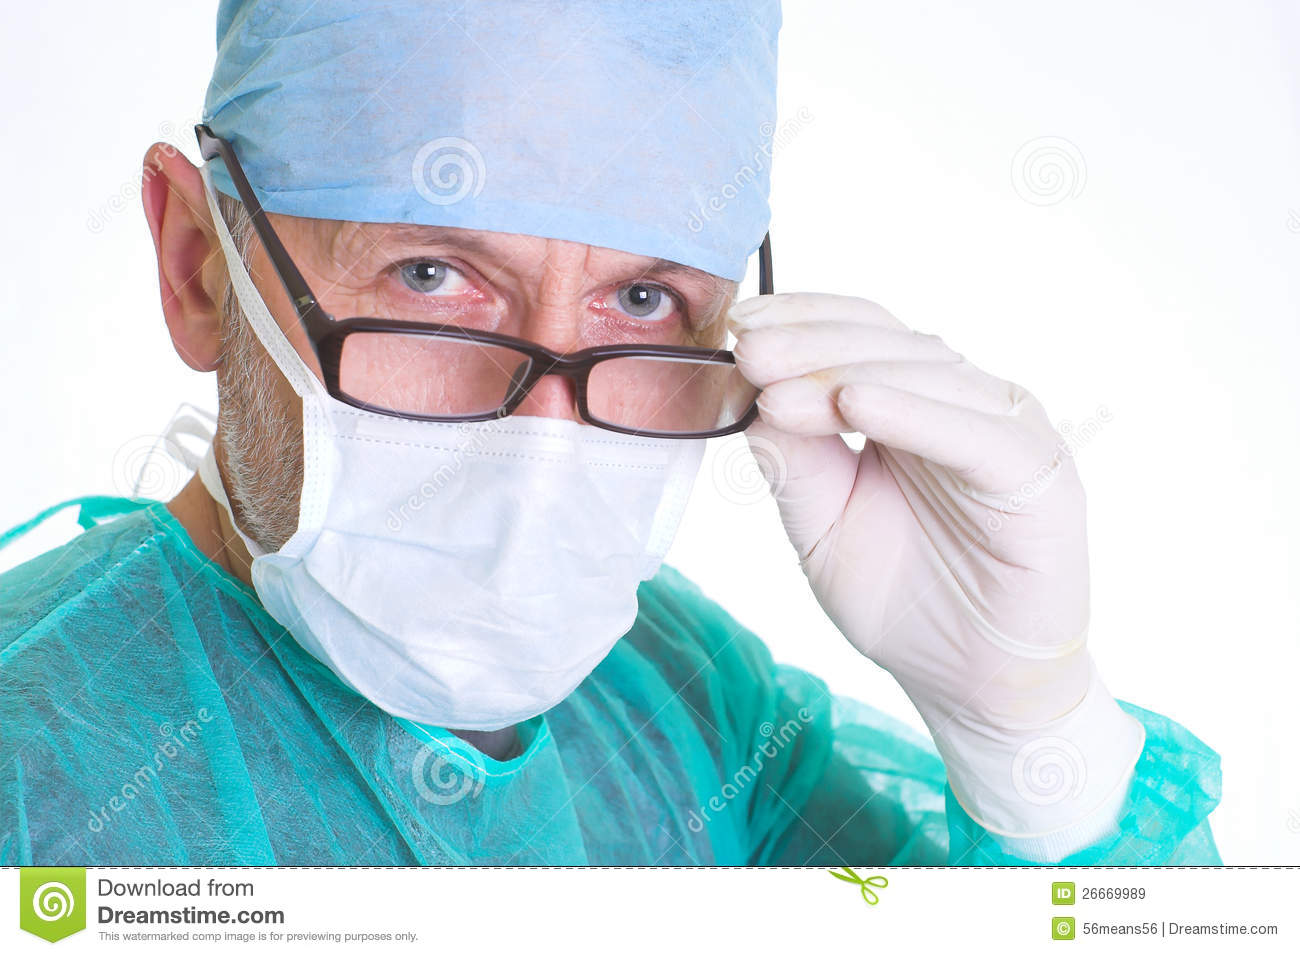mask: (285, 373, 710, 779)
